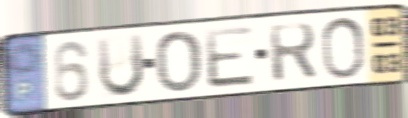6: (51, 38, 90, 104)
E: (202, 23, 257, 91)
O: (154, 29, 203, 95), (319, 14, 366, 82)
R: (266, 20, 319, 85)
U: (94, 30, 147, 100)
